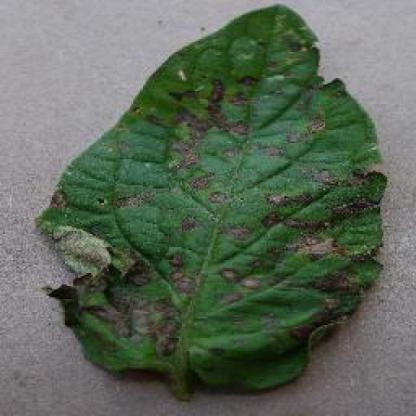Tomato_Blight: (39, 6, 385, 398)
